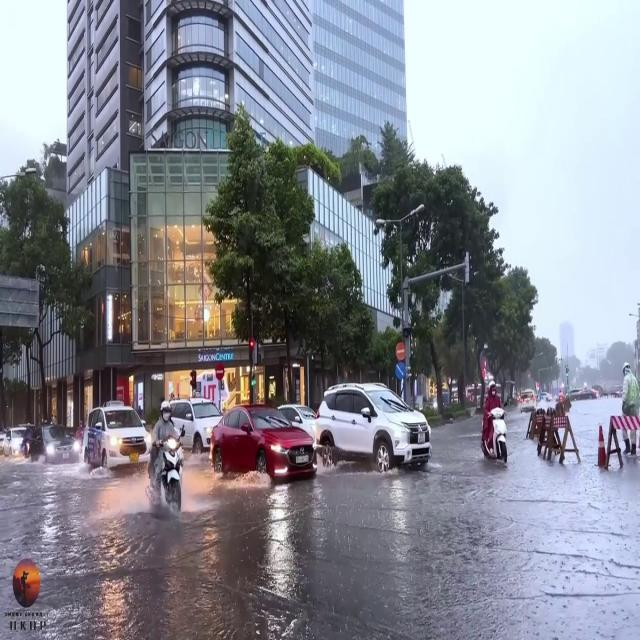bien_vang: (130, 454, 138, 462)
